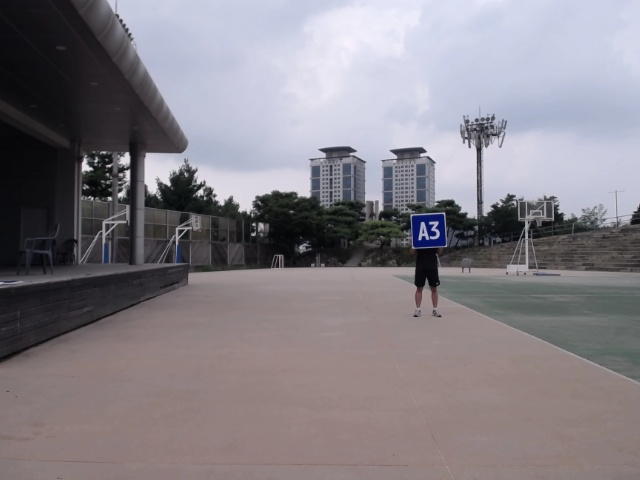delivery_a3: (411, 213, 446, 249)
